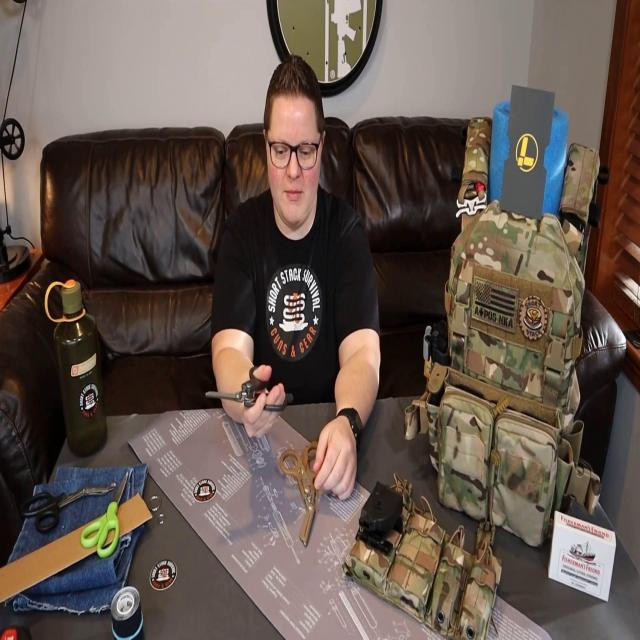scissor: (20, 482, 116, 531), (205, 364, 294, 410), (81, 472, 128, 559), (280, 441, 317, 546)
